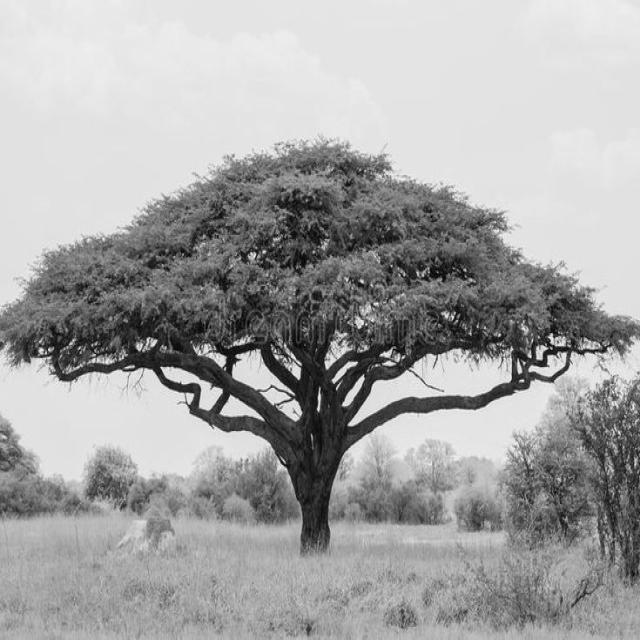Acacia: (45, 135, 571, 528)
